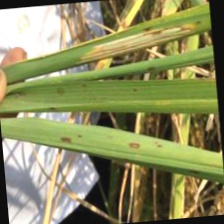Bacterial_Leaf_Blight: (120, 141, 143, 151), (55, 135, 75, 145), (152, 139, 165, 148), (143, 65, 157, 73), (54, 86, 64, 96), (194, 17, 205, 25), (130, 85, 139, 92)
